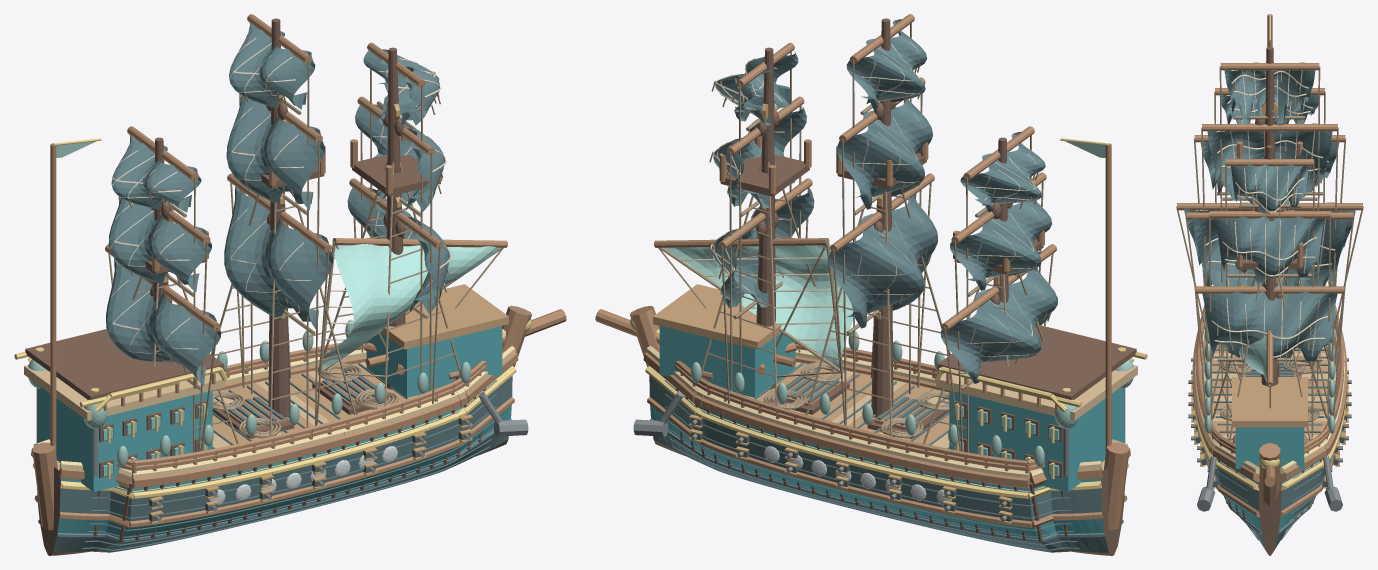
The model's file is flying_dutchman-v5.glb.
3 views of the same model, side by side, from view 1: azimuth 30°, elevation 25°; view 2: azimuth 150°, elevation 25°; view 3: azimuth 270°, elevation 25° (orthographic). The views are drawn at different scales.
Visible parts, largest first — view 1: flying_dutchman_sails_ghostdark, flying_dutchman_hull_ghostdark, flying_dutchman_deck_teal, flying_dutchman_hull_hull2, flying_dutchman_rigging_rope, flying_dutchman_masts_darkwood, flying_dutchman_sails_mint, flying_dutchman_deck_darkwood, flying_dutchman_rigging_hull2, flying_dutchman_railings_hull2, flying_dutchman_hull_teal, flying_dutchman_deck_wood (+22 smaller); view 2: flying_dutchman_sails_ghostdark, flying_dutchman_hull_ghostdark, flying_dutchman_deck_teal, flying_dutchman_hull_hull2, flying_dutchman_masts_darkwood, flying_dutchman_rigging_rope, flying_dutchman_rigging_hull2, flying_dutchman_deck_darkwood, flying_dutchman_sails_mint, flying_dutchman_hull_teal, flying_dutchman_railings_hull2, flying_dutchman_rigging_sailshade (+22 smaller); view 3: flying_dutchman_sails_ghostdark, flying_dutchman_rigging_rope, flying_dutchman_rigging_hull2, flying_dutchman_rigging_sailshade, flying_dutchman_hull_hull2, flying_dutchman_deck_wood, flying_dutchman_hull_ghostdark, flying_dutchman_deck_teal, flying_dutchman_masts_darkwood, flying_dutchman_railings_hull2, flying_dutchman_hull_wood, flying_dutchman_hull_darkwood (+15 smaller).
Part boxes in pixels (x1,y1,x2,y2): flying_dutchman_sails_ghostdark: [106, 23, 448, 385]; flying_dutchman_hull_ghostdark: [38, 362, 512, 552]; flying_dutchman_deck_teal: [36, 326, 502, 491]; flying_dutchman_hull_hull2: [31, 305, 566, 530]; flying_dutchman_rigging_rope: [108, 23, 503, 461]; flying_dutchman_masts_darkwood: [145, 18, 440, 417]; flying_dutchman_sails_mint: [322, 244, 499, 368]; flying_dutchman_deck_darkwood: [25, 329, 223, 477]; flying_dutchman_rigging_hull2: [105, 14, 507, 331]; flying_dutchman_railings_hull2: [117, 342, 486, 481]; flying_dutchman_hull_teal: [57, 365, 512, 539]; flying_dutchman_deck_wood: [381, 284, 508, 349]; flying_dutchman_sails_ghostdark: [711, 19, 1057, 383]; flying_dutchman_hull_ghostdark: [649, 362, 1123, 552]; flying_dutchman_deck_teal: [659, 326, 1125, 491]; flying_dutchman_hull_hull2: [595, 305, 1130, 530]; flying_dutchman_masts_darkwood: [721, 18, 1043, 417]; flying_dutchman_rigging_rope: [658, 23, 1053, 461]; flying_dutchman_rigging_hull2: [654, 14, 1056, 331]; flying_dutchman_deck_darkwood: [938, 324, 1136, 477]; flying_dutchman_sails_mint: [664, 245, 853, 368]; flying_dutchman_hull_teal: [649, 365, 1104, 539]; flying_dutchman_railings_hull2: [675, 342, 1044, 481]; flying_dutchman_rigging_sailshade: [680, 32, 1056, 361]; flying_dutchman_sails_ghostdark: [1184, 62, 1355, 361]; flying_dutchman_rigging_rope: [1176, 66, 1363, 437]; flying_dutchman_rigging_hull2: [1177, 63, 1362, 387]; flying_dutchman_rigging_sailshade: [1205, 70, 1335, 358]; flying_dutchman_hull_hull2: [1192, 330, 1347, 517]; flying_dutchman_deck_wood: [1232, 377, 1307, 427]; flying_dutchman_hull_ghostdark: [1206, 349, 1333, 549]; flying_dutchman_deck_teal: [1221, 293, 1316, 468]; flying_dutchman_masts_darkwood: [1238, 46, 1301, 385]; flying_dutchman_railings_hull2: [1195, 293, 1344, 453]; flying_dutchman_hull_wood: [1203, 343, 1336, 442]; flying_dutchman_hull_darkwood: [1217, 459, 1322, 555].
Size of the model in its own units: 51.18 by 45.02 by 18.3.
